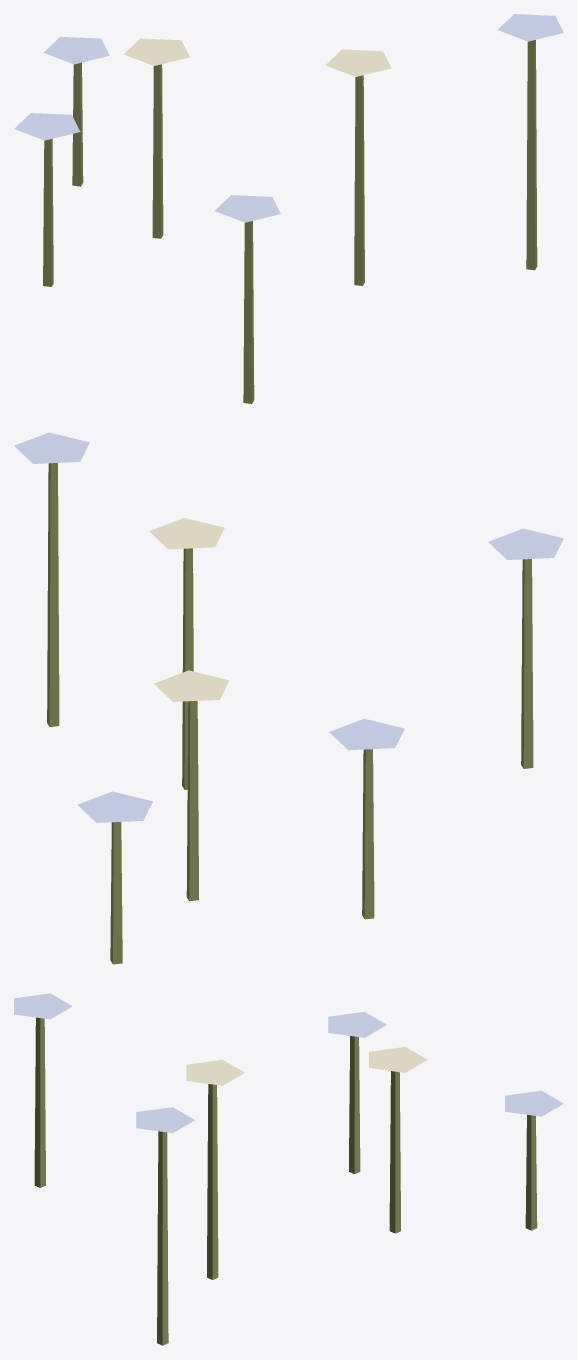
The model's file is flowers_1.glb.
The picture shows the model from 3 angles, top to bottom: view 1: azimuth 30°, elevation 25°; view 2: azimuth 150°, elevation 25°; view 3: azimuth 270°, elevation 25°; orthographic projection. The views are drawn at different scales.
Parts seen in each view (by area): view 1: flowers_4; view 2: flowers_4; view 3: flowers_4.
Boxes of the visible parts, <box> form: flowers_4: <box>14,14,563,403</box>; flowers_4: <box>14,432,563,964</box>; flowers_4: <box>14,993,563,1345</box>.
Bounding box in the file's own units: 0.6465 × 0.3403 × 0.7606.
